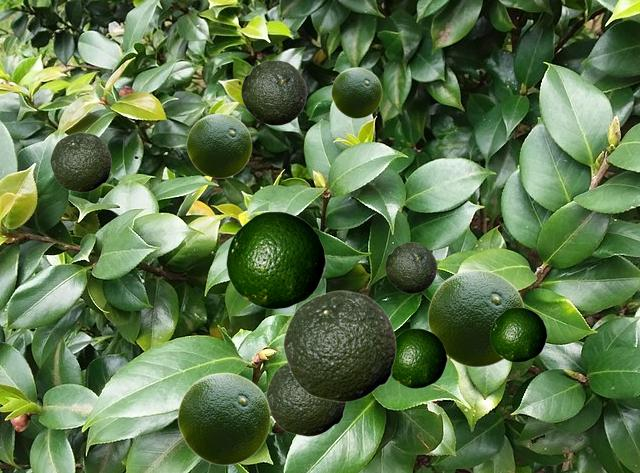calamansi: (283, 290, 395, 401), (226, 211, 325, 308), (427, 269, 524, 366), (177, 372, 270, 464), (266, 362, 345, 435), (241, 60, 306, 124), (186, 113, 251, 177), (50, 132, 110, 191), (391, 328, 446, 387), (490, 307, 546, 361), (385, 242, 436, 292), (331, 67, 381, 117)
